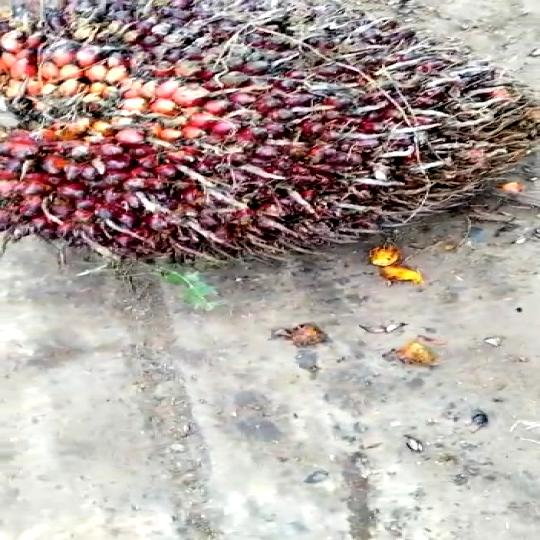masak: (0, 0, 540, 260)
